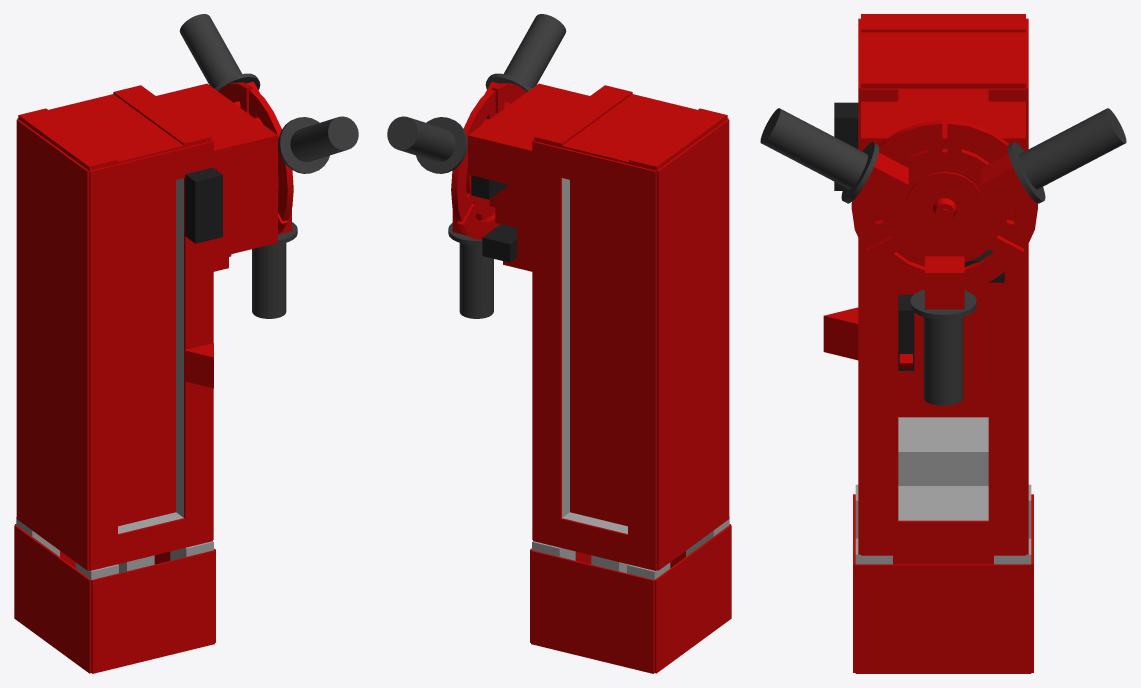
File: assembly_Maschine.dae
3 renders of one model, left to right at view 1: azimuth 30°, elevation 25°; view 2: azimuth 150°, elevation 25°; view 3: azimuth 270°, elevation 25°, orthographic. The views are drawn at different scales.
Parts seen in each view (by area): view 1: Leiste_2, Leiste (×2), Platte, Komponente_12, Werkzeugträger_3, Werkzeug (×4), Komponente_11, Komponente_7, Leiste2 (×2), Komponente_4, Motor, Drehscheibe_1 (+2 smaller); view 2: Leiste_2 (×2), Leiste (×2), Platte, Komponente_12, Werkzeugträger_3, Werkzeug (×4), Komponente_11, Komponente_7, Leiste2 (×2), Drehscheibe_1, Komponente_4, Motor (×2) (+1 smaller); view 3: Komponente_11 (×2), Leiste_1 (×2), Drehscheibe_1 (×2), Werkzeug (×6), Komponente_8, Werkzeugträger_3, Leiste2 (×2), Werkzeugaufnahme (×3), Komponente_7, Komponente_9, Leiste_2, Leiste (×2) (+3 smaller).
Boxes of the visible parts, x1,y1,x2,y2 form: Leiste_2: (16, 119, 89, 570); Leiste (×2): (89, 141, 212, 570); Platte: (118, 180, 175, 526); Komponente_12: (91, 550, 214, 673); Werkzeugträger_3: (156, 83, 277, 271); Werkzeug (×4): (179, 14, 358, 318); Komponente_11: (14, 525, 91, 673); Komponente_7: (49, 94, 183, 163); Leiste2 (×2): (18, 85, 211, 170); Komponente_4: (176, 178, 183, 517); Motor: (185, 167, 222, 243); Drehscheibe_1: (218, 82, 293, 233); Leiste_2 (×2): (656, 119, 729, 570); Leiste (×2): (533, 141, 656, 570); Platte: (570, 180, 627, 526); Komponente_12: (531, 550, 654, 673); Werkzeugträger_3: (468, 83, 589, 271); Werkzeug (×4): (387, 14, 566, 318); Komponente_11: (654, 525, 731, 673); Komponente_7: (562, 94, 696, 163); Leiste2 (×2): (534, 85, 727, 170); Drehscheibe_1: (451, 83, 526, 239); Komponente_4: (562, 178, 569, 517); Motor (×2): (471, 175, 516, 262); Komponente_11 (×2): (855, 555, 1031, 673); Leiste_1 (×2): (861, 88, 1025, 521); Drehscheibe_1 (×2): (851, 120, 1037, 289); Werkzeug (×6): (760, 108, 1126, 405); Komponente_8: (898, 417, 988, 520); Werkzeugträger_3: (861, 88, 1025, 286); Leiste2 (×2): (861, 14, 1025, 88); Werkzeugaufnahme (×3): (855, 153, 1032, 309); Komponente_7: (861, 32, 1025, 67); Komponente_9: (861, 520, 1025, 555); Leiste_2: (898, 281, 988, 417); Leiste (×2): (858, 88, 1028, 554).
Bounding box in the file's own units: 4.82 × 5.41 × 10.04.
